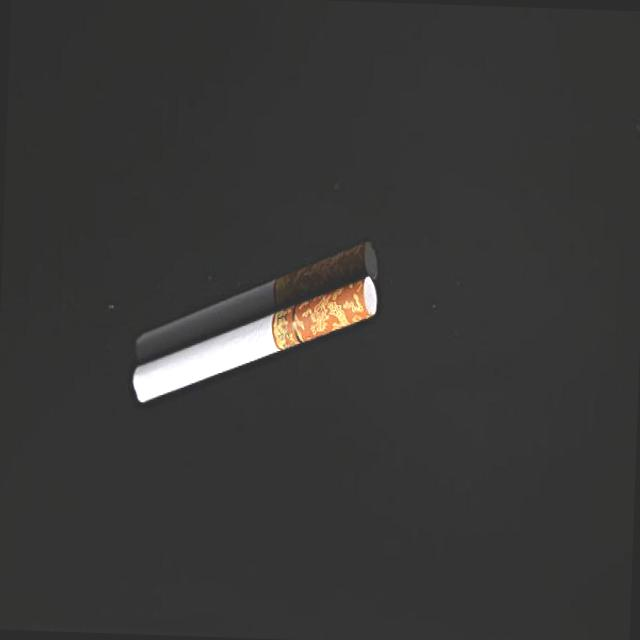cigarette: (128, 270, 380, 422)
